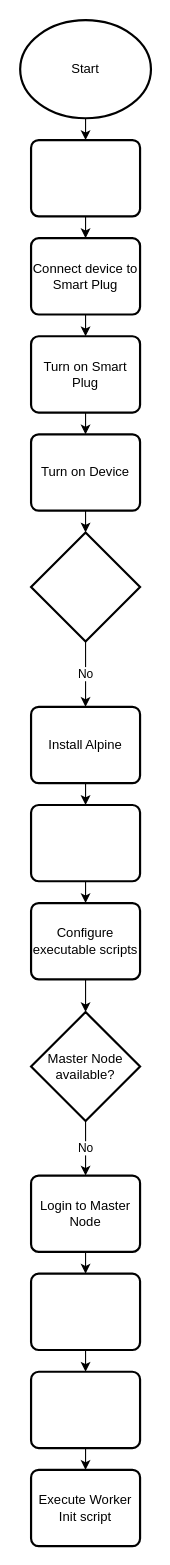
This 170x1565 diagram has some shape labels left out. The box of each missing label's shape, as (x1, y1, x2, y2) in pixels:
Clone ReCluster Repository: (29, 803, 141, 882)
Execute Master init script: (29, 1272, 141, 1351)
Insert Smart Plug to Power Source: (29, 138, 141, 217)
Login to Worker Node: (29, 1370, 141, 1449)
Software initialized?: (29, 531, 141, 642)
